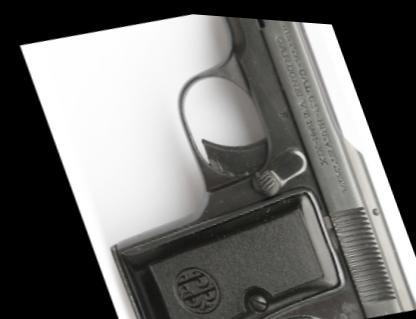pistol: (24, 1, 415, 317)
